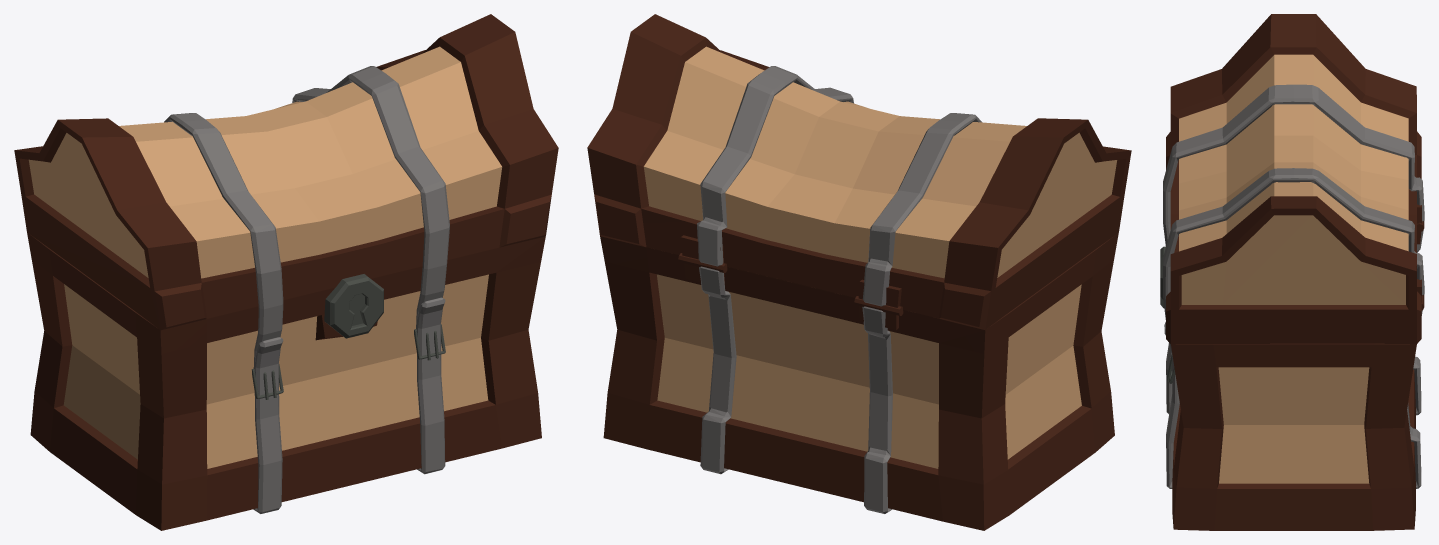
Rendered from chest.fbx.
3 views of the same model, side by side, from view 1: azimuth 30°, elevation 25°; view 2: azimuth 150°, elevation 25°; view 3: azimuth 270°, elevation 25° (orthographic). The views are drawn at different scales.
Parts seen in each view (by area): view 1: chest; view 2: chest; view 3: chest.
Part boxes in pixels (x1,y1,x2,y2): chest: (14,14,558,530); chest: (587,14,1131,530); chest: (1160,14,1424,530).
Size of the model in its own units: 54.4 by 44.23 by 31.17.
